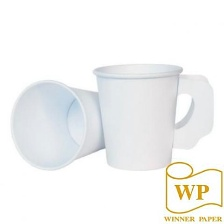paper_cup: (89, 56, 218, 174), (3, 73, 132, 174)
